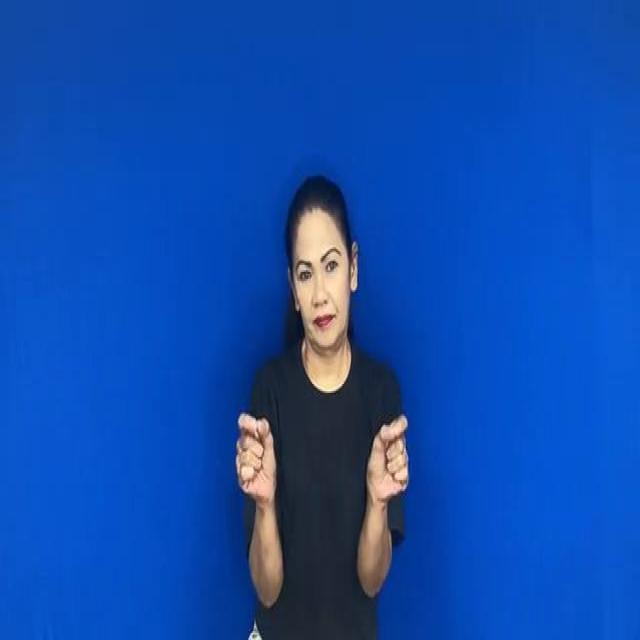crab: (228, 402, 422, 508)
